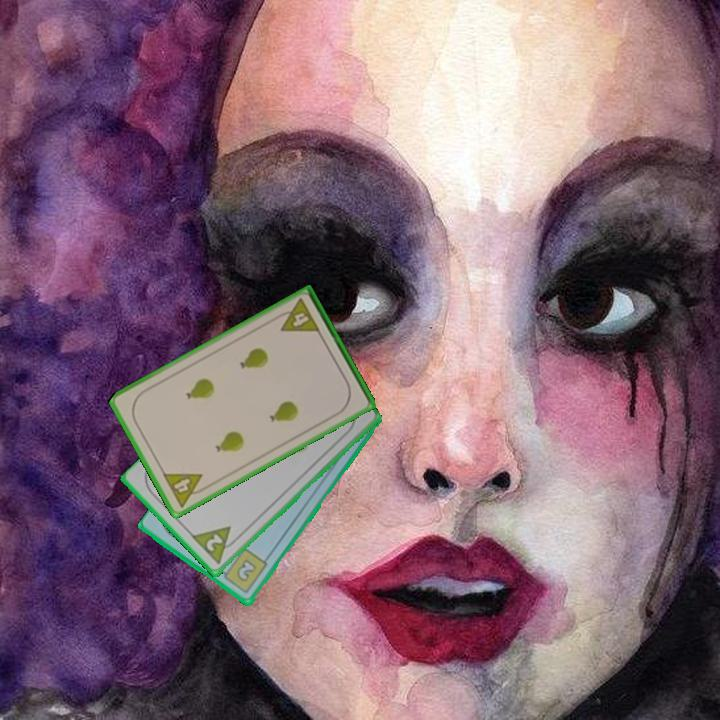2b: (216, 545, 270, 597)
2p: (189, 523, 243, 568)
4p: (159, 469, 212, 510), (272, 295, 323, 336)
